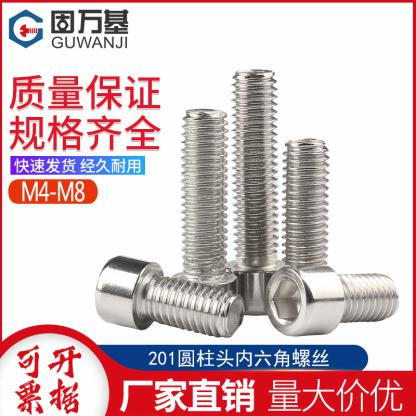FOD: (218, 70, 288, 318), (166, 107, 241, 318), (92, 256, 245, 338), (263, 264, 404, 338)
